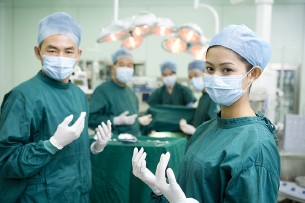Mask: (200, 59, 246, 104)
